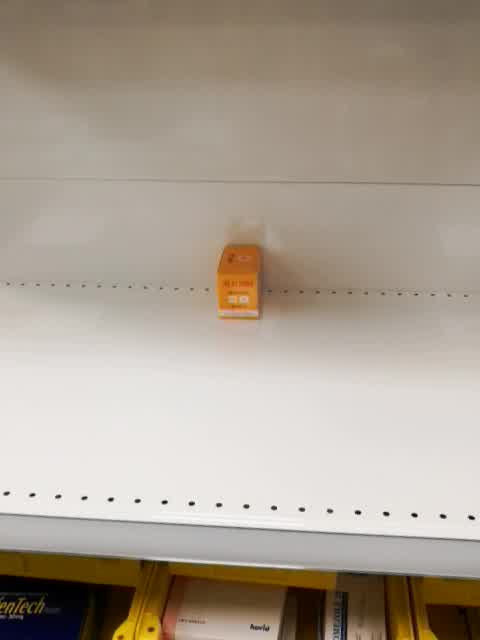jasminetea: (216, 243, 262, 321)
